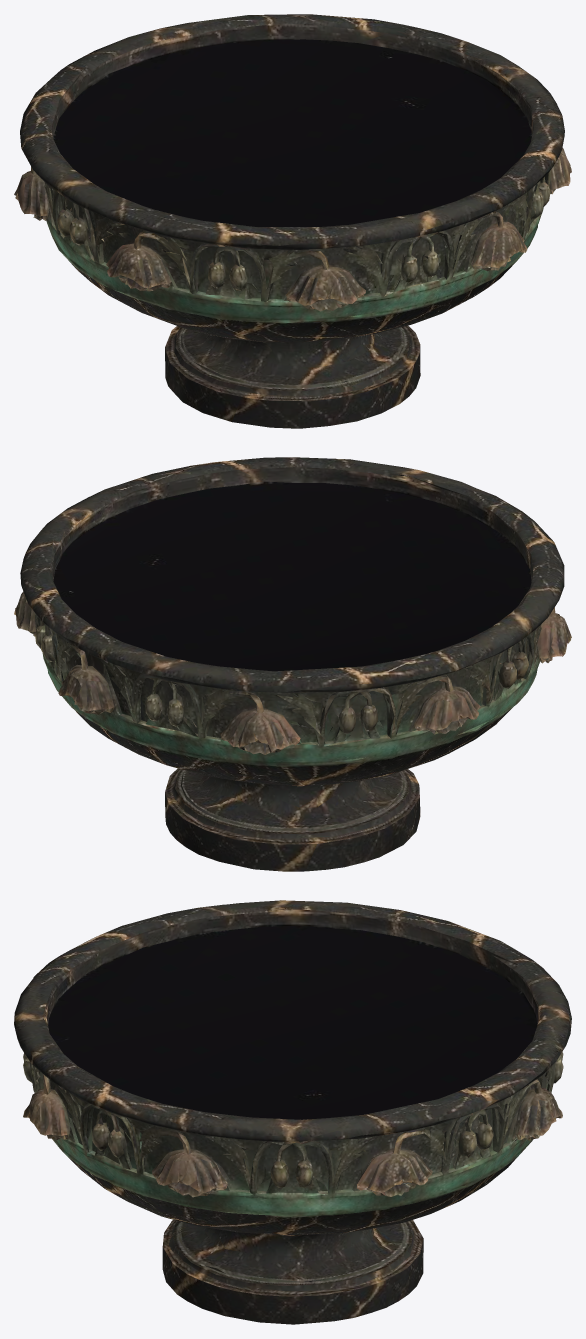
The model's file is P11_lethe_basin_game.glb.
The picture shows the model from 3 angles, top to bottom: view 1: azimuth 30°, elevation 25°; view 2: azimuth 150°, elevation 25°; view 3: azimuth 270°, elevation 25°; orthographic projection. The views are drawn at different scales.
Visible parts, largest first — view 1: P11_lethe_basin; view 2: P11_lethe_basin; view 3: P11_lethe_basin.
Part boxes in pixels (left/top/right/bottom): P11_lethe_basin: left=14, top=14, right=571, bottom=428; P11_lethe_basin: left=14, top=457, right=571, bottom=871; P11_lethe_basin: left=14, top=900, right=571, bottom=1324.
Size of the model in its own units: 1.4 by 0.7129 by 1.4.
Materials: 1 (1 with a texture image).
